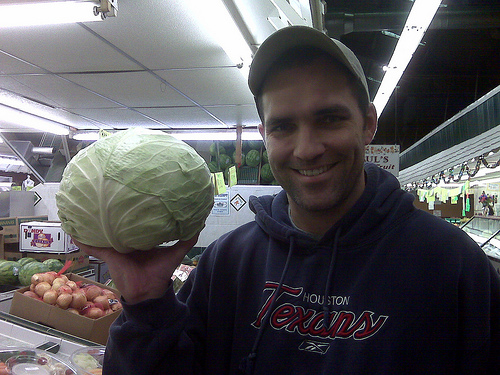cabbage: (55, 127, 216, 252)
